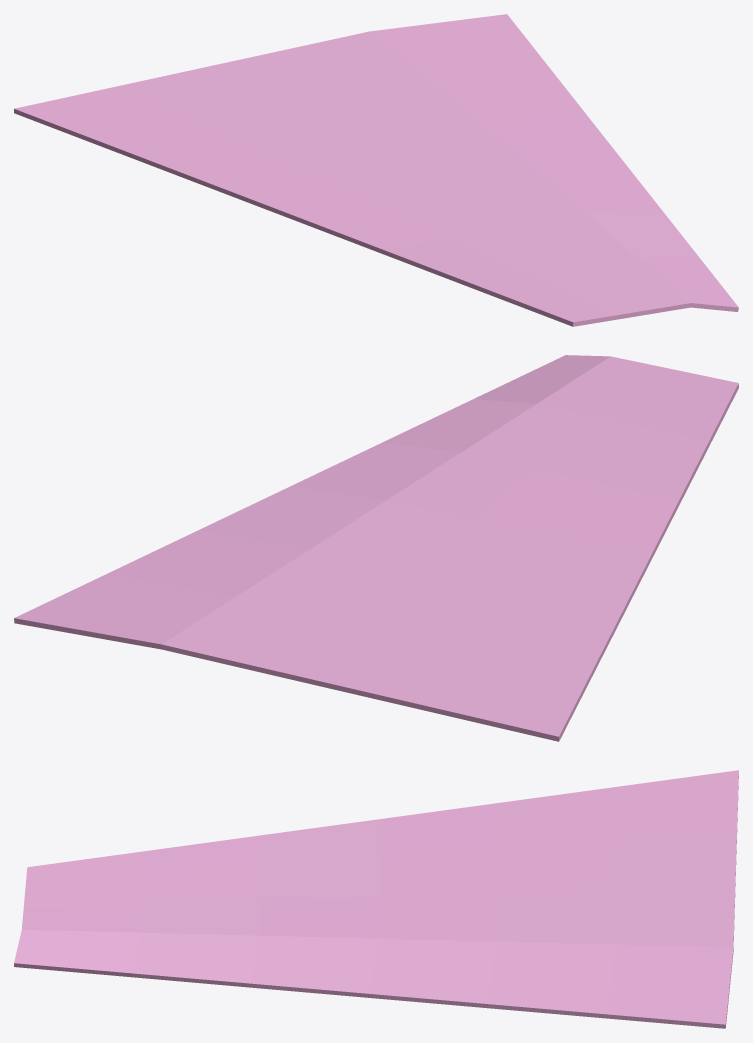
File: Cape2.fbx
The picture shows the model from 3 angles, top to bottom: view 1: azimuth 30°, elevation 25°; view 2: azimuth 150°, elevation 25°; view 3: azimuth 270°, elevation 25°; orthographic projection. The views are drawn at different scales.
Visible parts, largest first — view 1: Cape; view 2: Cape; view 3: Cape.
Boxes of the visible parts, bbox=[...] form: Cape: bbox=[14, 14, 738, 326]; Cape: bbox=[14, 355, 738, 741]; Cape: bbox=[14, 770, 738, 1028].
Size of the model in its own units: 115 by 5.32 by 150.
